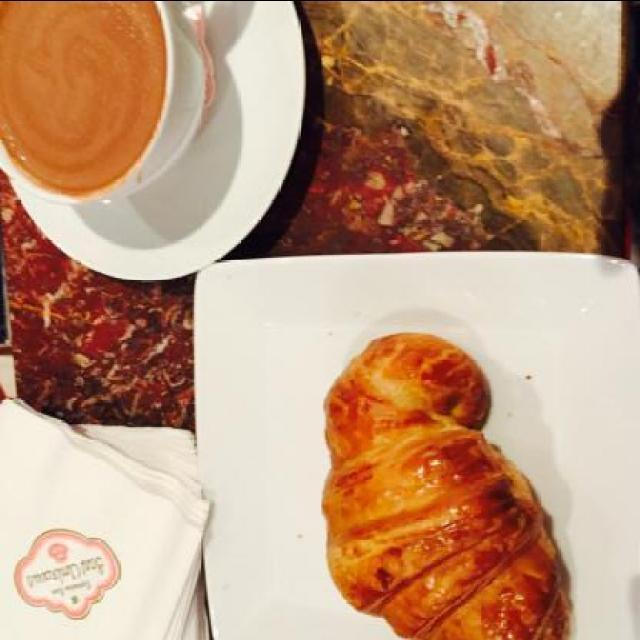Croissant: (326, 329, 572, 640)
